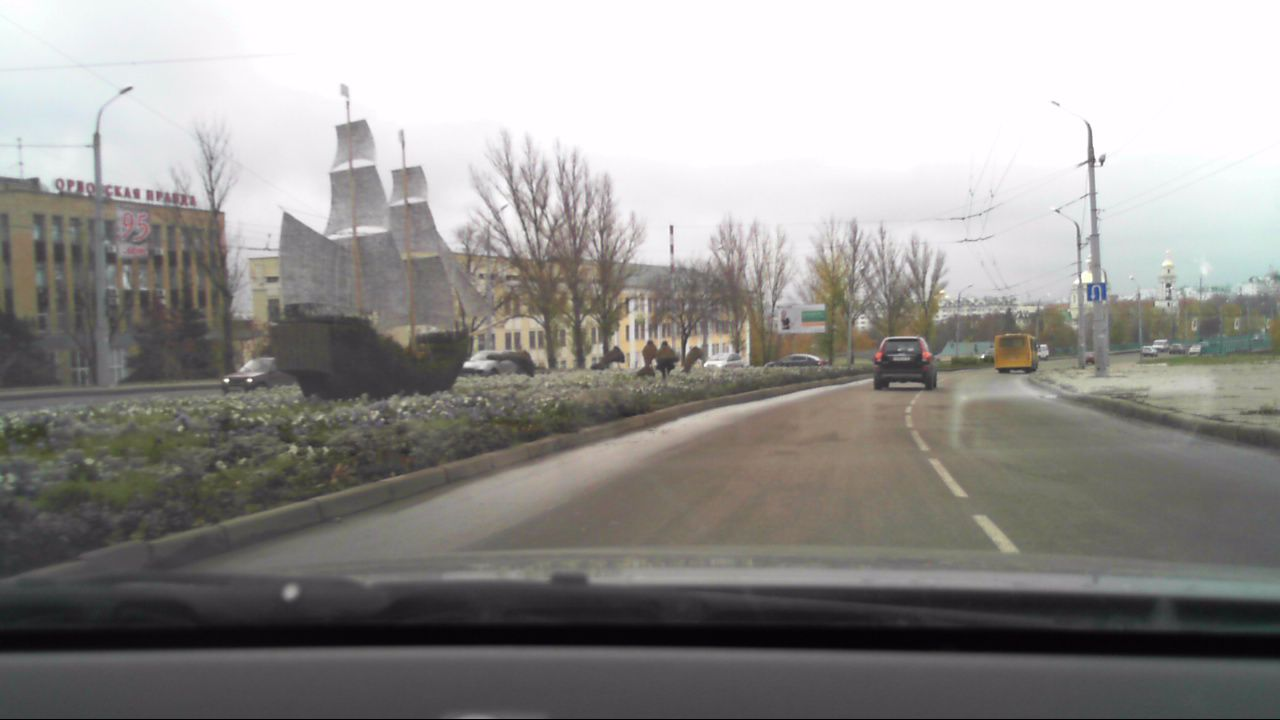U-turn: (1087, 283, 1105, 302)
